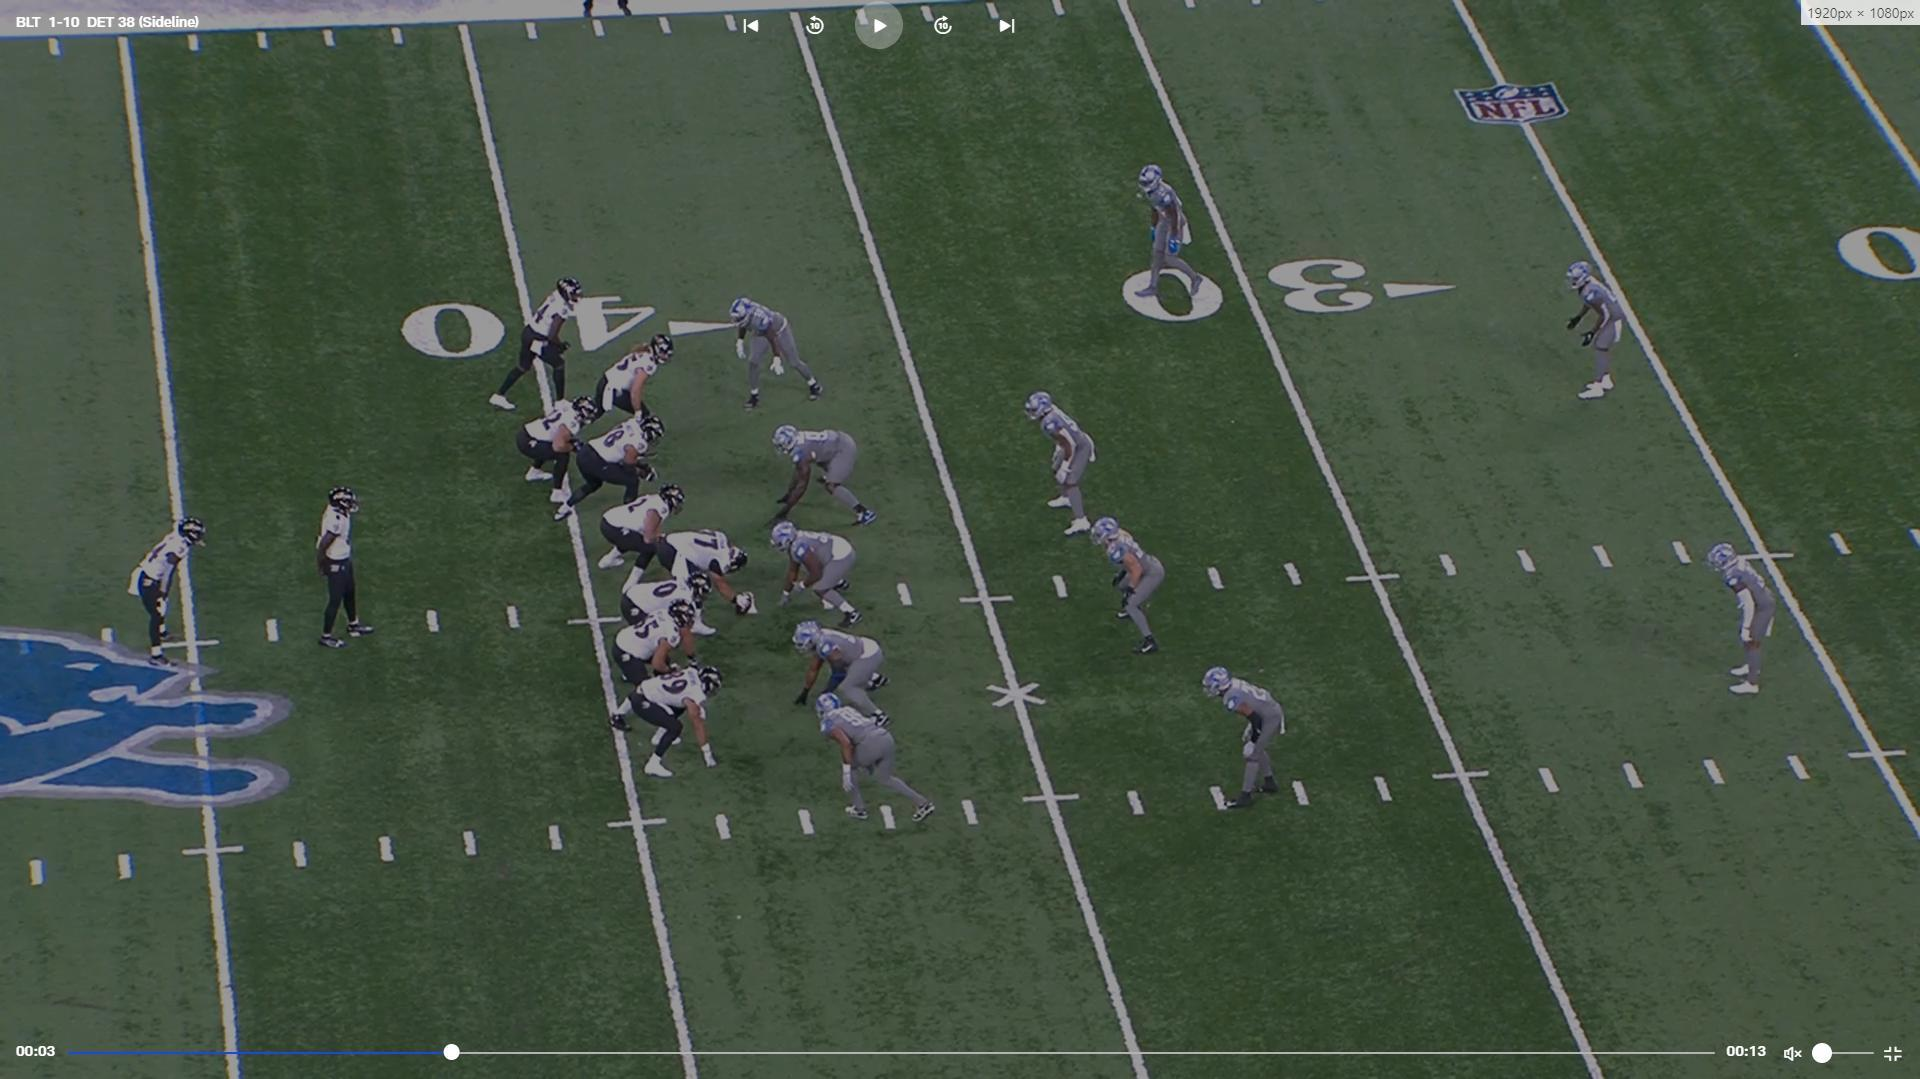player: (806, 685, 937, 829), (132, 511, 217, 684), (1205, 664, 1296, 819), (498, 278, 595, 422), (609, 663, 724, 784), (727, 290, 836, 415), (1700, 539, 1779, 706), (770, 421, 882, 531), (1560, 251, 1634, 412), (1024, 389, 1102, 538), (606, 610, 702, 731), (317, 479, 384, 652), (1092, 510, 1165, 660), (1127, 155, 1198, 307), (773, 522, 869, 629), (518, 393, 598, 519), (791, 613, 894, 705), (662, 529, 756, 623), (597, 483, 689, 574), (588, 333, 678, 426), (583, 414, 666, 505), (618, 575, 708, 646)
